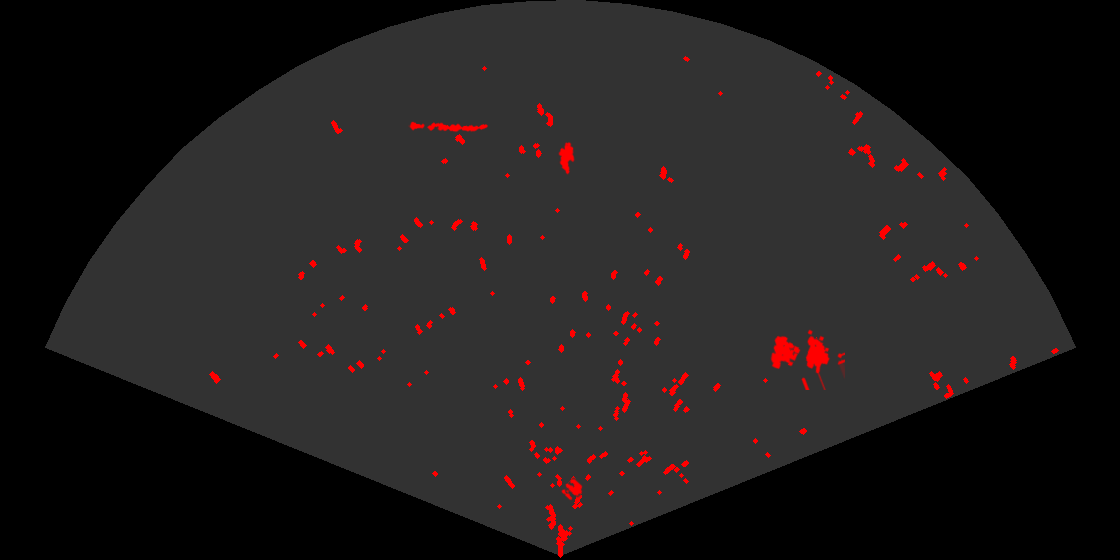AUV: (557, 140, 576, 176)
ball: (560, 477, 584, 502)
cage: (769, 328, 845, 390)
chain: (408, 120, 489, 134)
